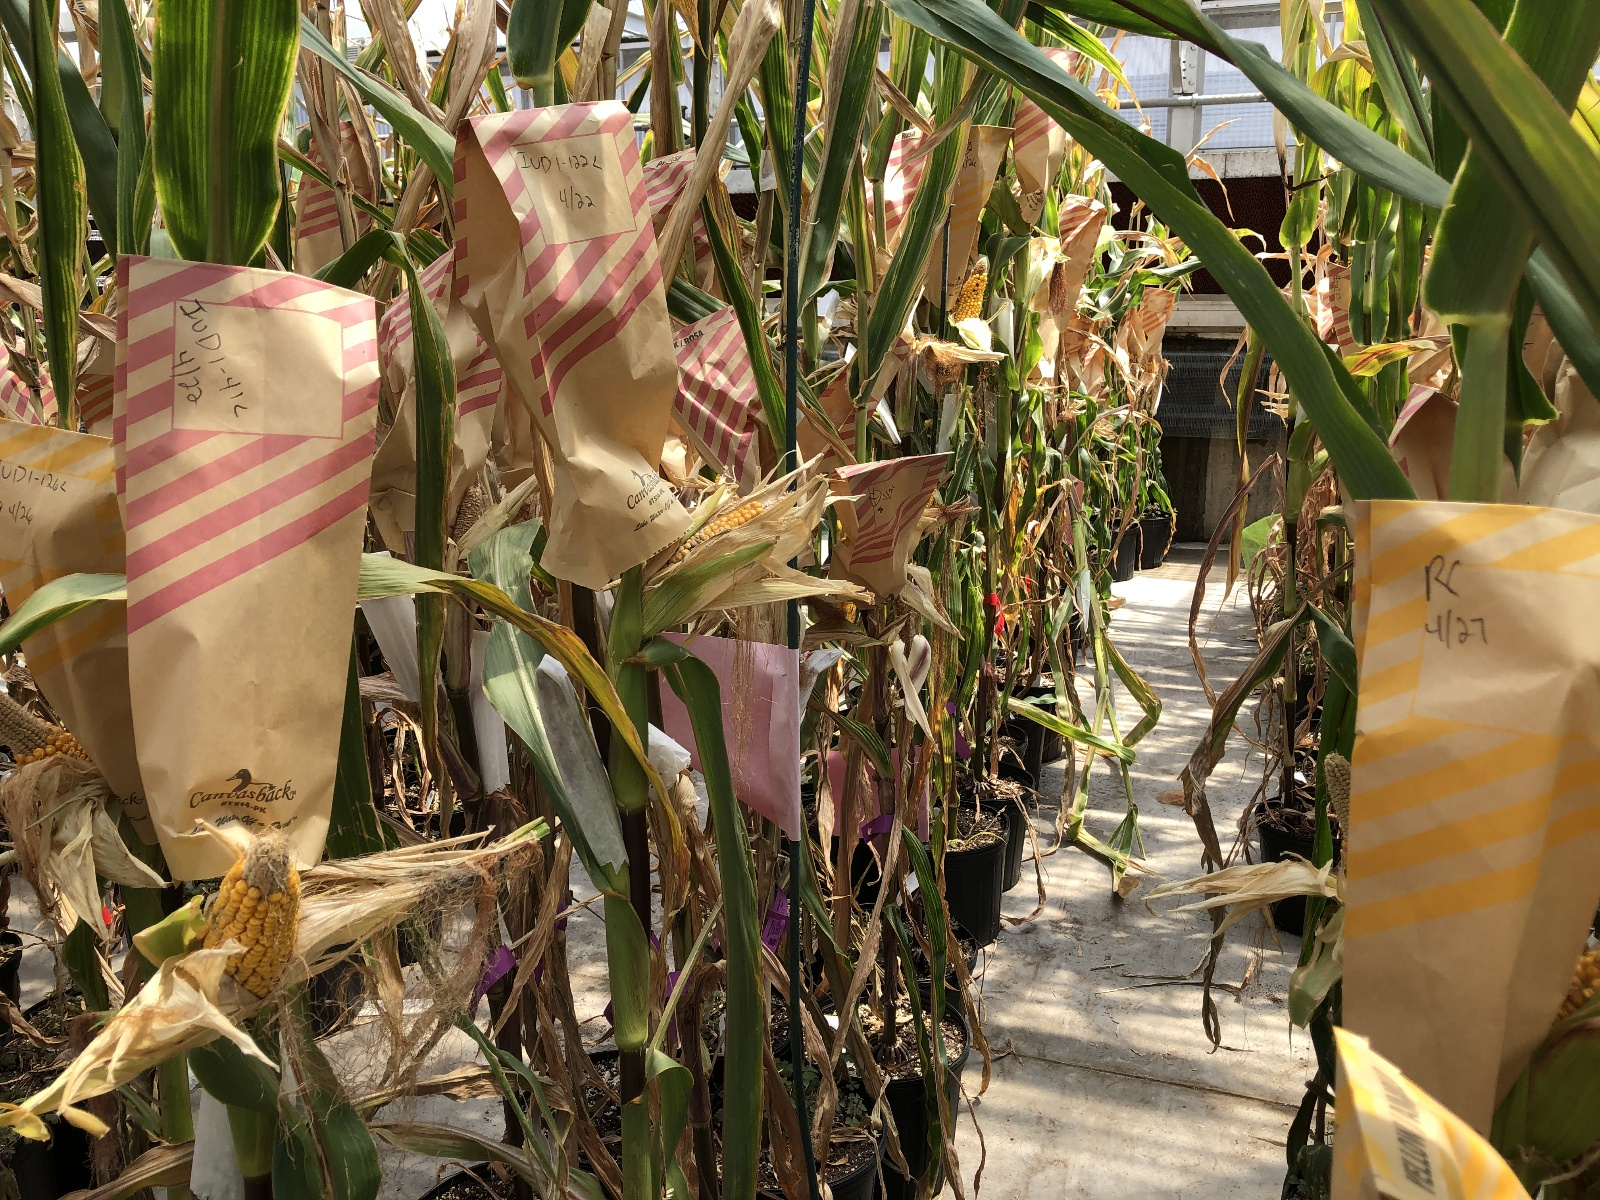ear: (615, 497, 797, 637), (180, 821, 309, 1000), (1, 686, 103, 771), (442, 484, 485, 684), (1325, 744, 1356, 887), (1556, 945, 1599, 1029), (950, 252, 990, 338)
